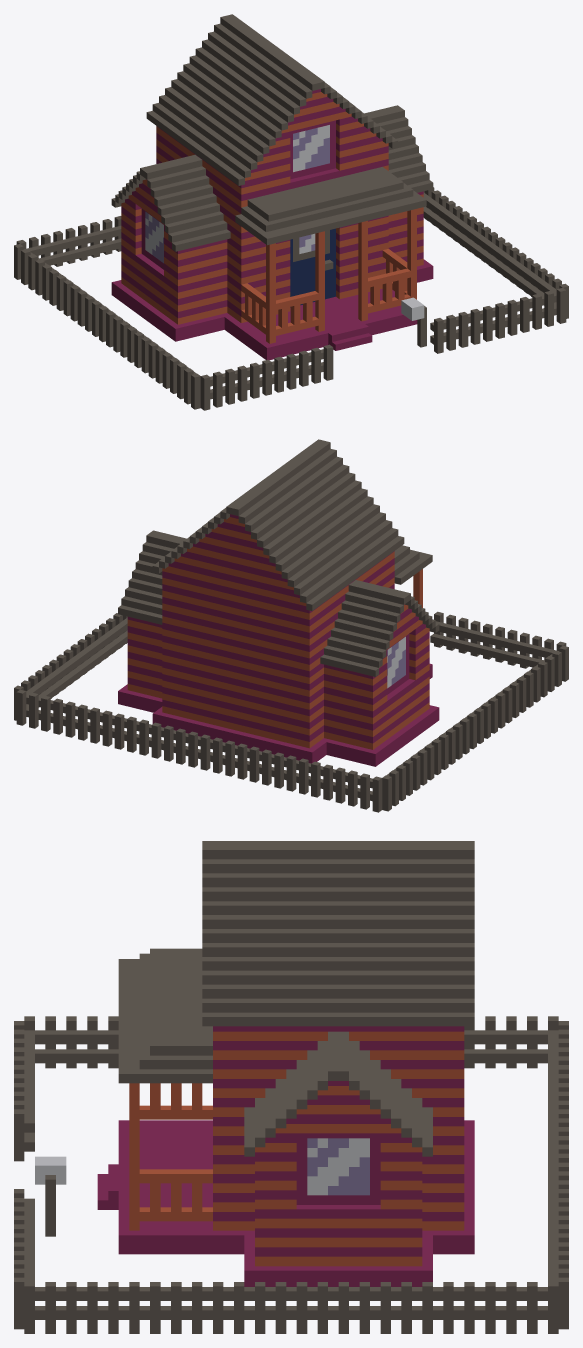
The model's file is house_a_a.obj.
The picture shows the model from 3 angles, top to bottom: view 1: azimuth 30°, elevation 25°; view 2: azimuth 150°, elevation 25°; view 3: azimuth 270°, elevation 25°; orthographic projection. The views are drawn at different scales.
Bounding box in the file's own units: 6.1 × 3.7 × 5.3.
1 material, 1 textured.
